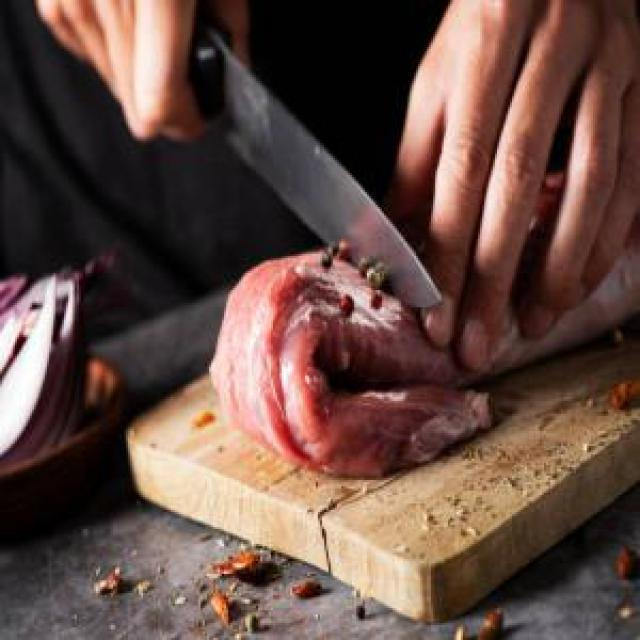knife: (179, 0, 446, 320)
